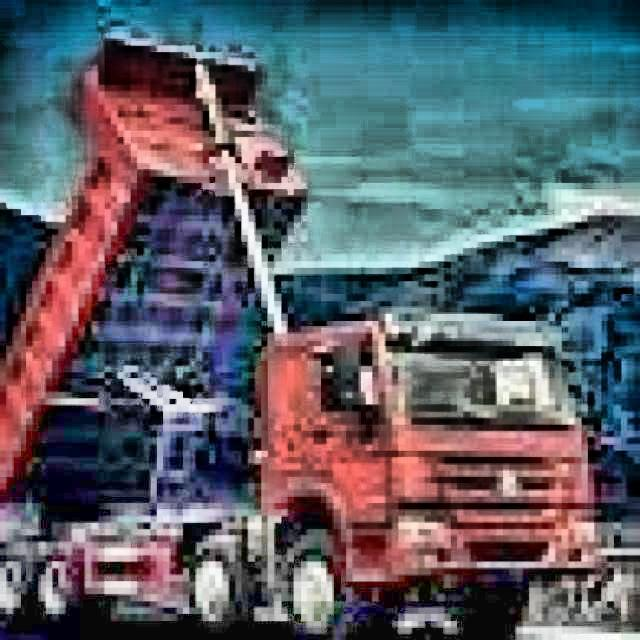dump_truck: (0, 26, 602, 640)
